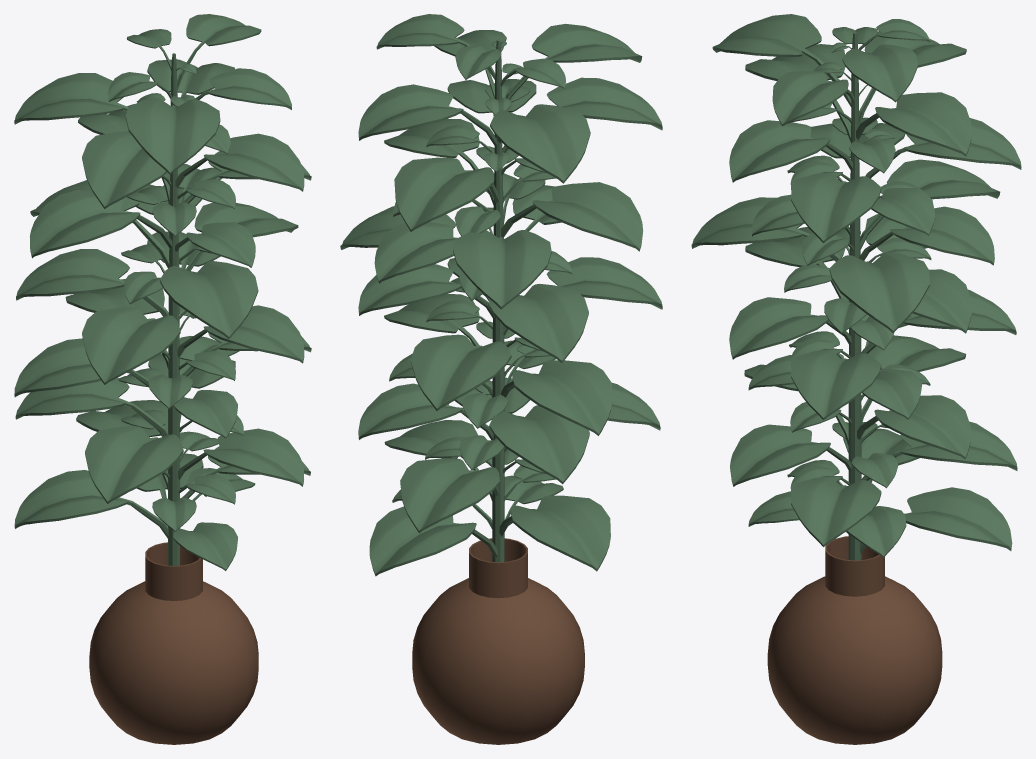
File: plant.glb
3 renders of one model, left to right at view 1: azimuth 30°, elevation 25°; view 2: azimuth 150°, elevation 25°; view 3: azimuth 270°, elevation 25°, orthographic. The views are drawn at different scales.
Parts seen in each view (by area): view 1: Plant_Wtextures_v1; view 2: Plant_Wtextures_v1; view 3: Plant_Wtextures_v1.
Boxes of the visible parts, left/top/right/bottom form: Plant_Wtextures_v1: left=14, top=14, right=311, bottom=744; Plant_Wtextures_v1: left=340, top=14, right=662, bottom=744; Plant_Wtextures_v1: left=691, top=14, right=1021, bottom=744.
Bounding box in the file's own units: 2.87 × 6.68 × 2.87.
